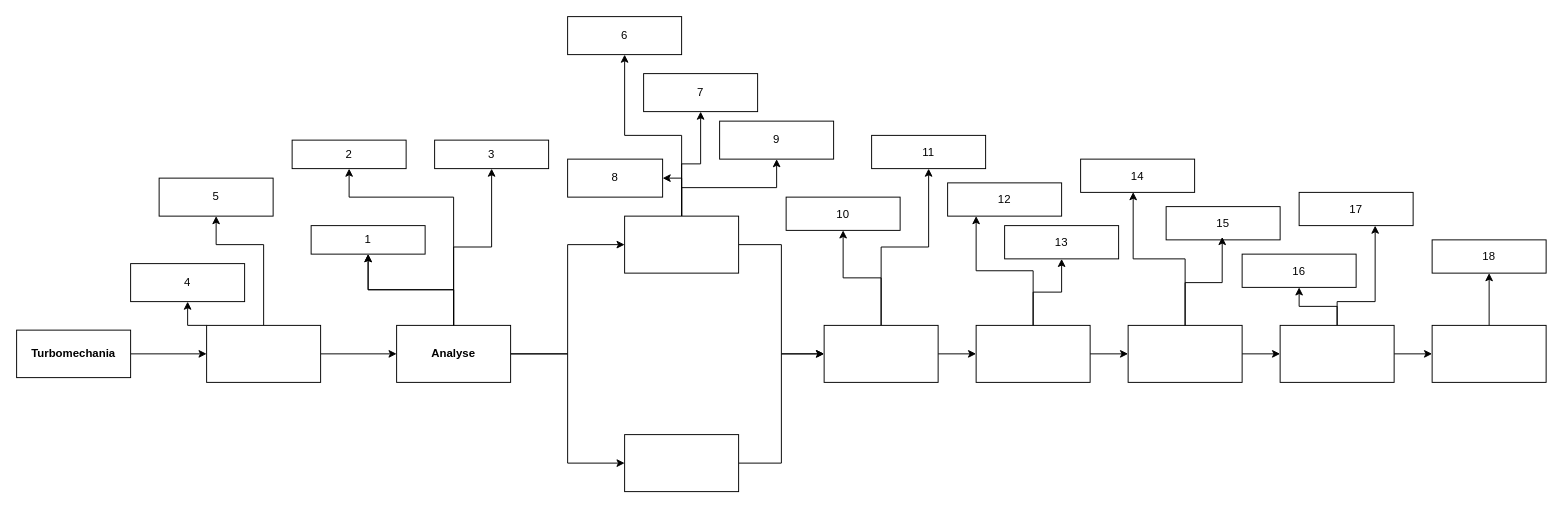
This 1563x508 diagram has some shape labels left out. The centre of each missing label's shape, as x and y in pixels:
"Customer" belongs at (1488,353).
"Detect" belongs at (880,353).
"Diagnose" belongs at (1032,353).
"Ingest" belongs at (263,353).
"ML/DL" belongs at (681,463).
"Notify" belongs at (1336,353).
"Physics" belongs at (681,244).
"Prescribe" belongs at (1184,353).
